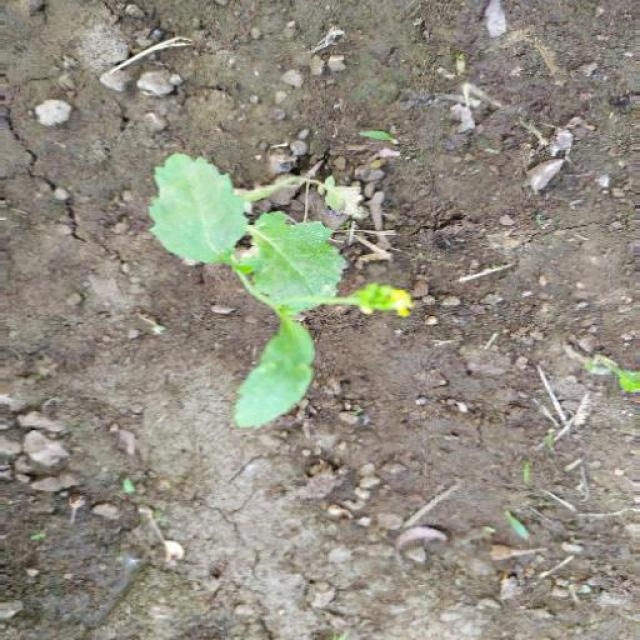weed: (138, 142, 418, 436)
